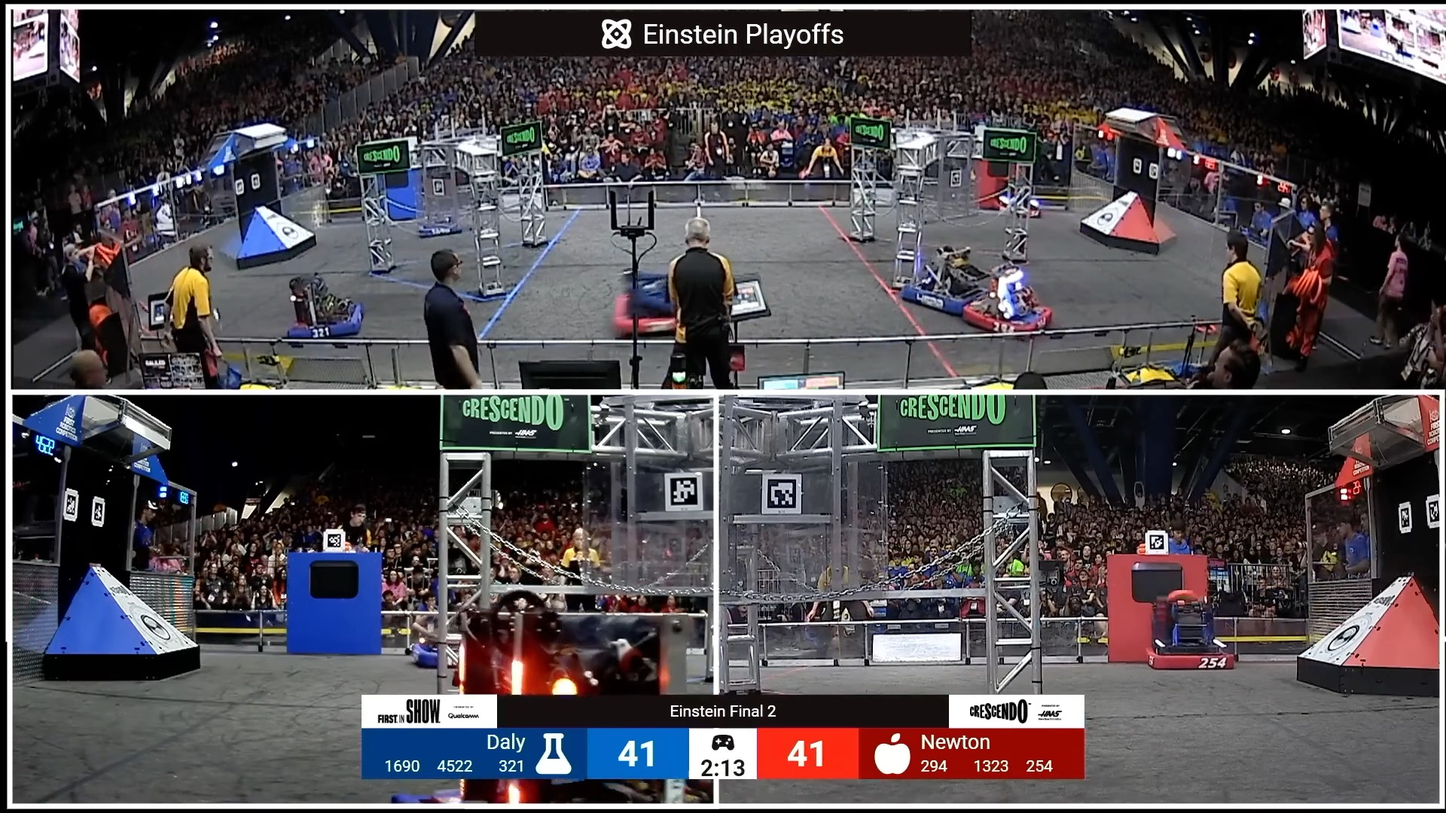bumpers: (608, 281, 696, 344), (953, 294, 1058, 341), (892, 278, 998, 322), (285, 298, 374, 349), (1140, 647, 1240, 670), (413, 217, 467, 240), (999, 206, 1046, 220)
